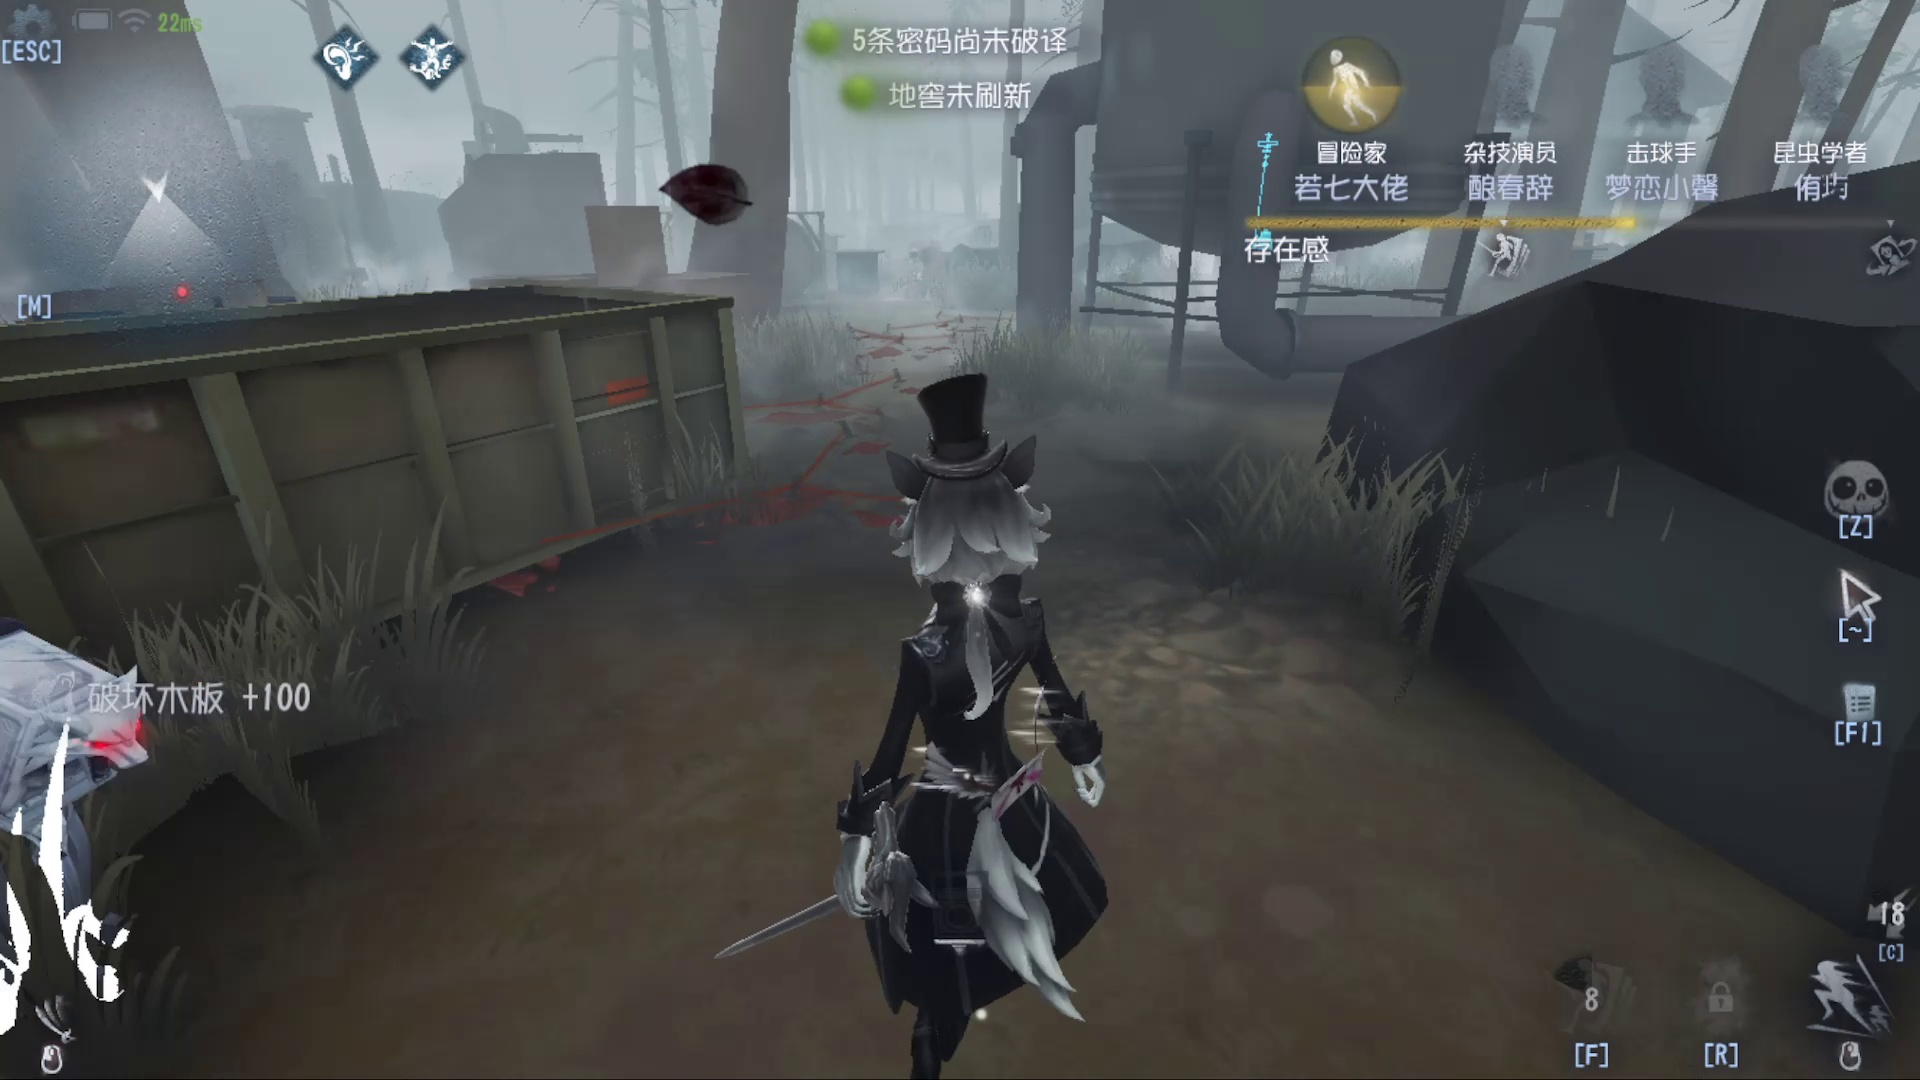密码机: (1254, 123, 1284, 287)
脚印: (823, 291, 986, 392)
